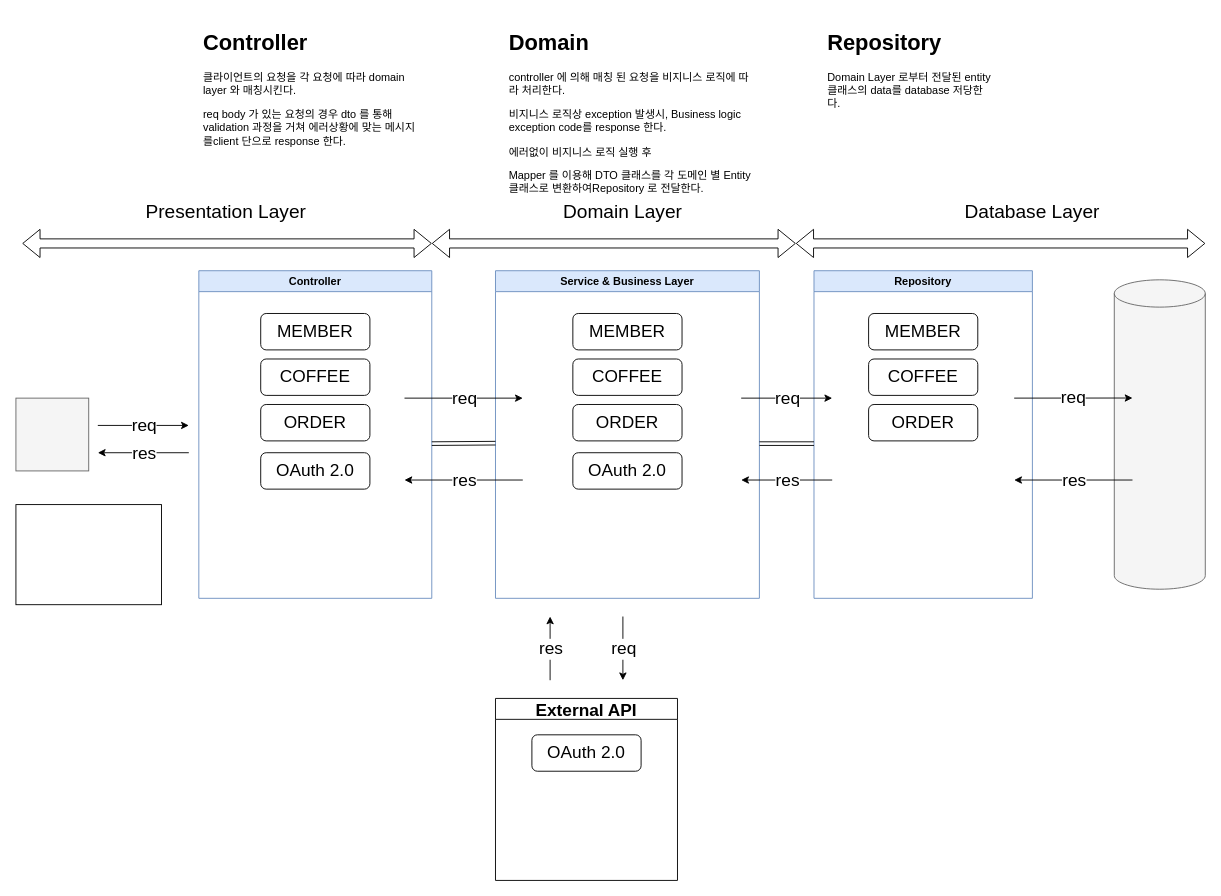
Image size: 1221x896. Some labels were removed from this diagram. Each missing label, with the centre of its shape:
"API DOC client 와 소통을 위한 API document req res reference 를 제공" belongs at point 88,554.
"H2 Mysql MongoDB" belongs at point 1159,434.
"http req" belongs at point 52,434.
